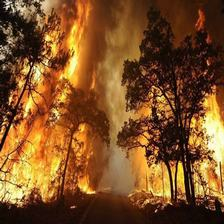fire: (10, 8, 110, 206), (123, 46, 224, 211)
